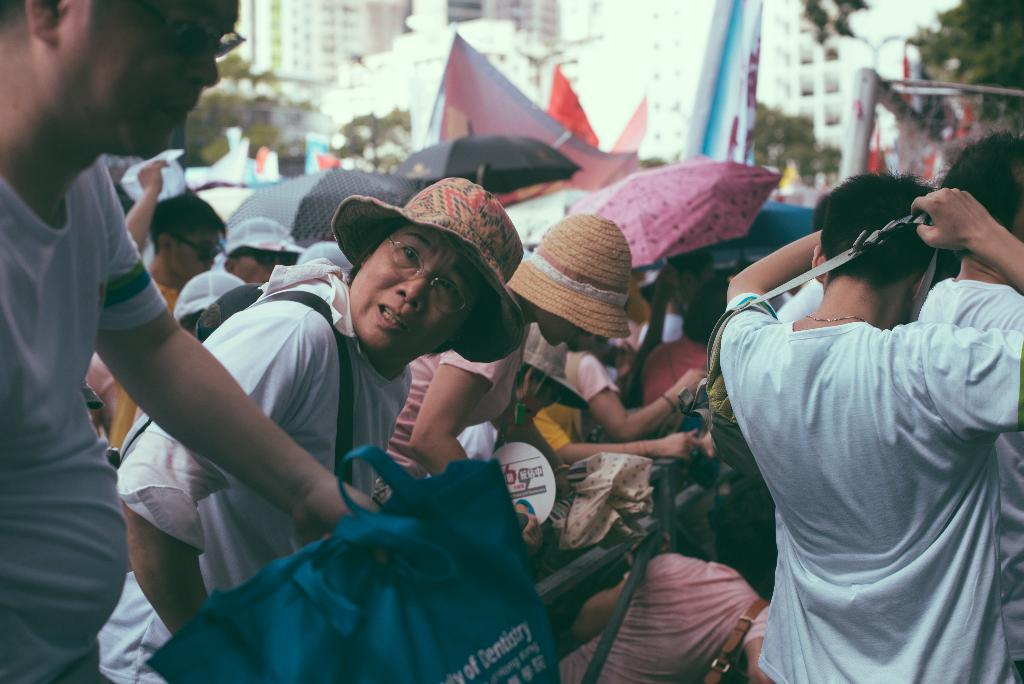Hat: (331, 172, 520, 362), (504, 218, 634, 339), (120, 145, 187, 199), (220, 214, 306, 251)
